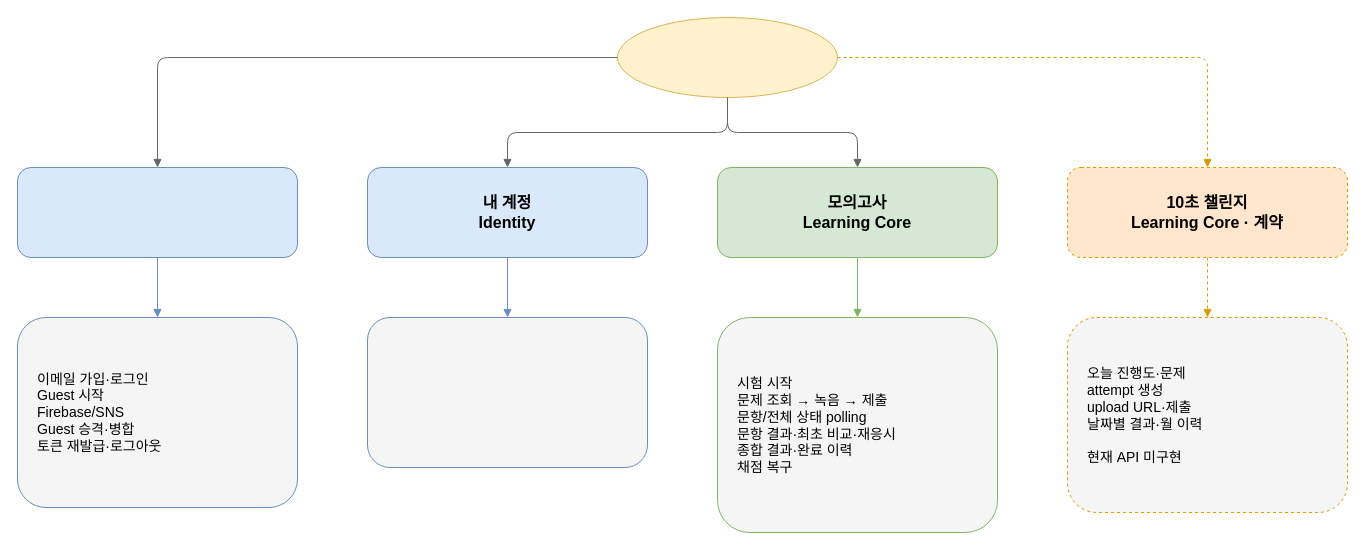
Image size: 1365x550. Some labels were removed from this diagram. Each missing label, with the centre of its shape:
"시작·인증 Identity" belongs at point 157,212.
"토선생 앱" belongs at point 727,57.
"프로필 조회 동의 조회·변경 회원 탈퇴" belongs at point 507,392.
